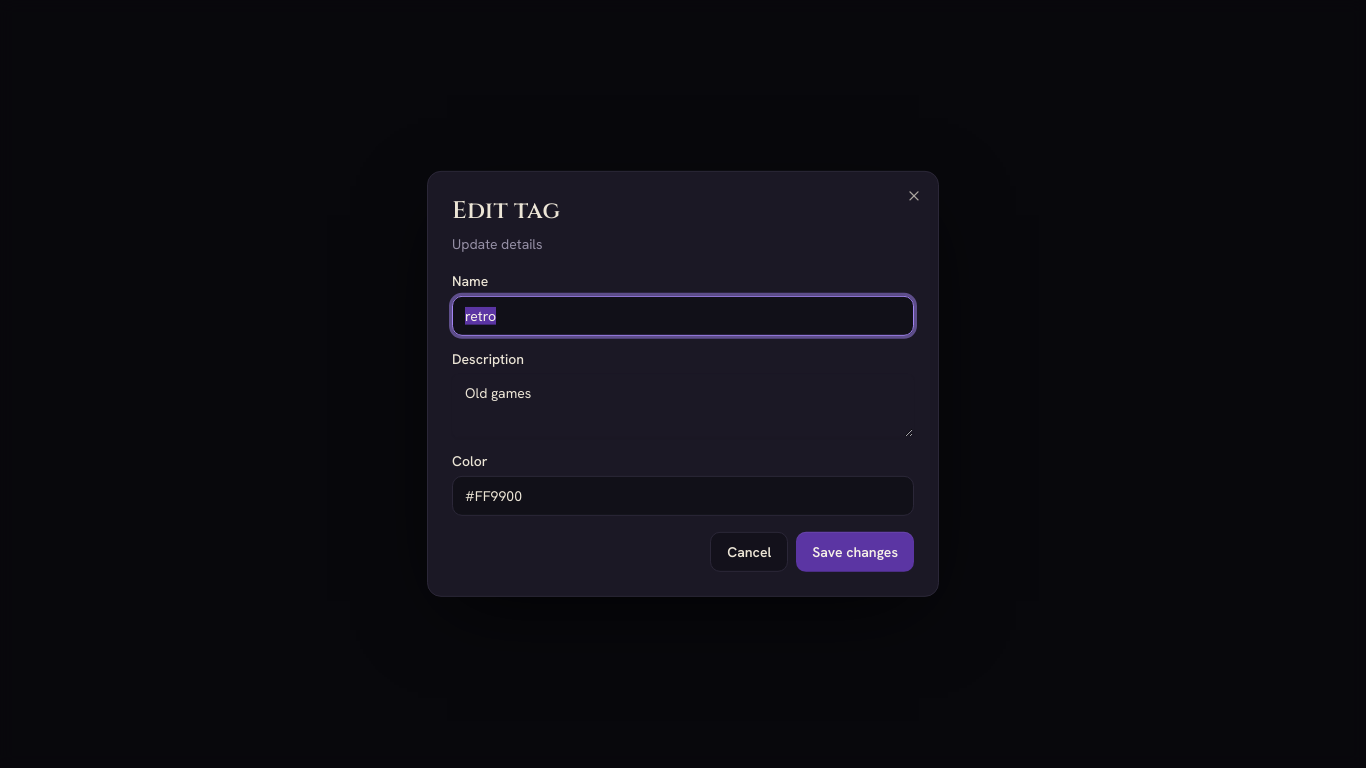
Scenario: TaxonomyFormDialog › keeps the dialog open and reports errors when submit fails
This screenshot has width=1366, height=768.
What coordinates should you click on to do the following:
click the button "Save changes"
I would click on:
 (855, 552)
Its box is [796, 532, 914, 572].
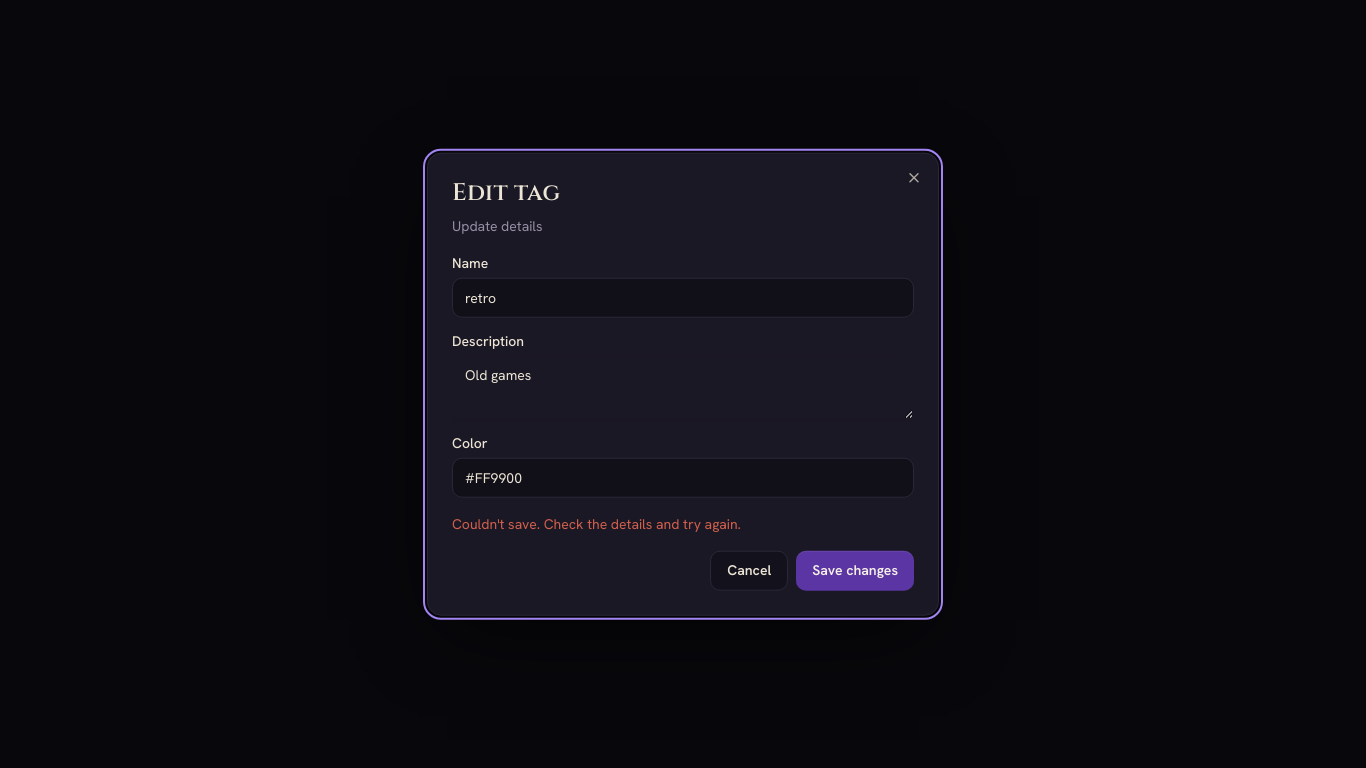
Result: the message "Couldn't save. Check the details and try again." is shown at [452, 515, 741, 533]
